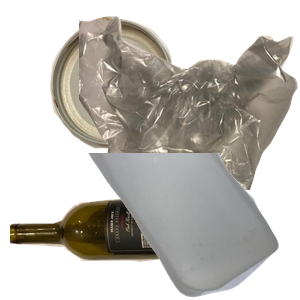glass: (10, 189, 250, 300)
metal: (47, 16, 214, 157)
plastic: (84, 153, 300, 300)
trash: (79, 14, 300, 194)
